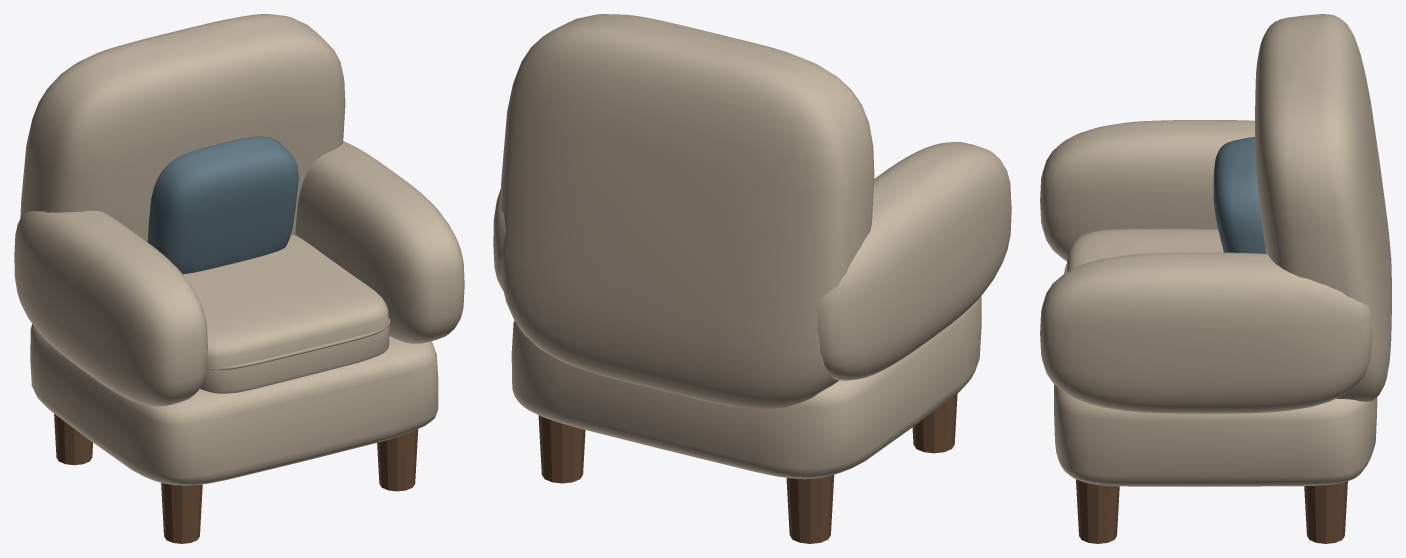
File: armchair-v1.glb
The picture shows the model from 3 angles, left to right: view 1: azimuth 30°, elevation 25°; view 2: azimuth 150°, elevation 25°; view 3: azimuth 270°, elevation 25°; orthographic projection. The views are drawn at different scales.
Visible parts, largest first — view 1: Rounded back, Upholstered base, Rolled arm L, Seat cushion, Rolled arm R, Blue pillow, Walnut foot, Walnut foot.002, Walnut foot.001, Seat piping; view 2: Rounded back, Upholstered base, Rolled arm L, Walnut foot.001, Walnut foot.003, Walnut foot, Rolled arm R; view 3: Rolled arm R, Rounded back, Upholstered base, Rolled arm L, Blue pillow, Seat cushion, Walnut foot.002, Walnut foot.003.
Boxes of the visible parts, x1,y1,x2,y2 form: Rounded back: (20, 14, 345, 241); Upholstered base: (30, 324, 438, 485); Rolled arm L: (14, 210, 207, 406); Seat cushion: (183, 234, 389, 393); Rolled arm R: (295, 141, 464, 343); Blue pillow: (147, 136, 298, 274); Walnut foot: (161, 483, 202, 543); Walnut foot.002: (377, 429, 418, 491); Walnut foot.001: (54, 413, 92, 465); Seat piping: (207, 318, 390, 370); Rounded back: (500, 14, 874, 409); Upholstered base: (511, 296, 981, 479); Rolled arm L: (816, 142, 1011, 380); Walnut foot.001: (786, 474, 834, 543); Walnut foot.003: (538, 415, 585, 483); Walnut foot: (912, 393, 957, 453); Rolled arm R: (493, 188, 505, 290); Rolled arm R: (1040, 252, 1372, 413); Rounded back: (1255, 14, 1391, 401); Upholstered base: (1054, 384, 1377, 486); Rolled arm L: (1040, 120, 1254, 261); Blue pillow: (1213, 137, 1265, 253); Seat cushion: (1066, 229, 1223, 271); Walnut foot.002: (1076, 479, 1119, 543); Walnut foot.003: (1304, 481, 1347, 543).
Size of the model in its own units: 1.62 by 1.84 by 1.39.
